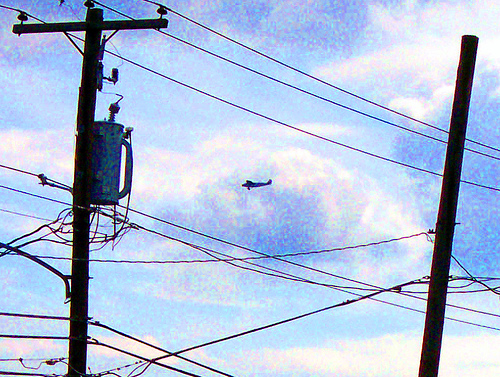pole: (4, 9, 186, 375), (414, 22, 480, 369)
